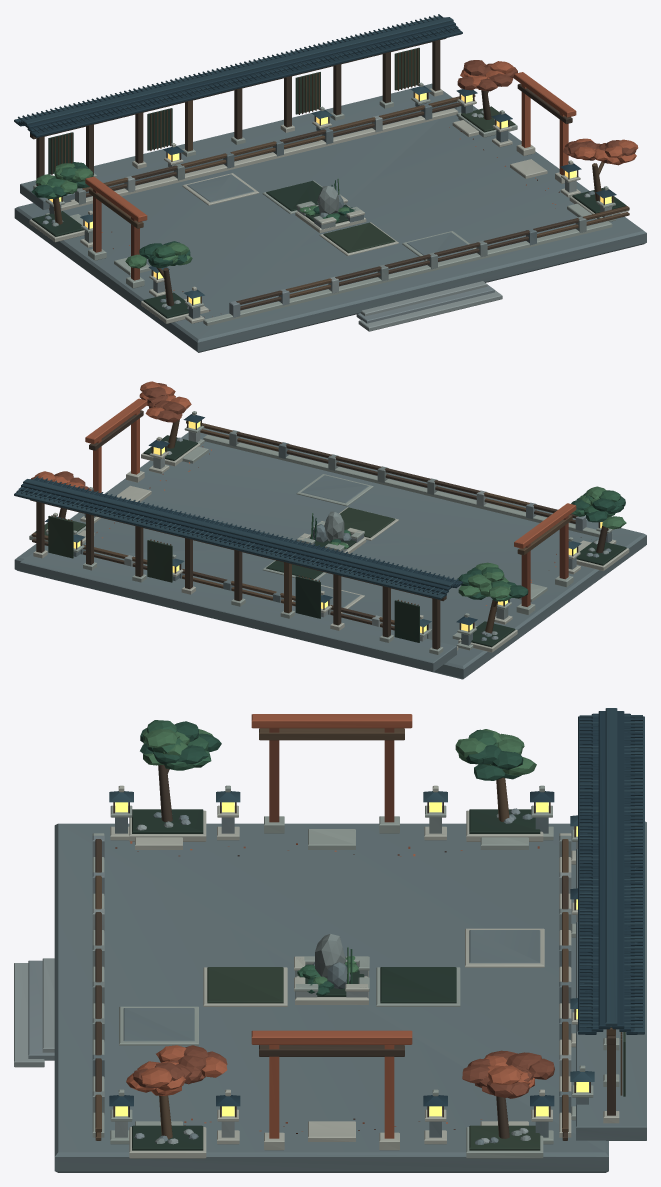
Rendered from training-garden-layout.glb.
The picture shows the model from 3 angles, top to bottom: view 1: azimuth 30°, elevation 25°; view 2: azimuth 150°, elevation 25°; view 3: azimuth 270°, elevation 25°; orthographic projection. The views are drawn at different scales.
Parts seen in each view (by area): view 1: garden-stone, garden-wood, garden-roof, garden-trim, garden-earth, garden-red, garden-foliage, garden-lamp, pillar-stone; view 2: garden-stone, garden-roof, garden-wood, garden-trim, garden-earth, garden-red, garden-foliage, pillar-stone, garden-lamp; view 3: garden-stone, garden-roof, garden-trim, garden-red, garden-earth, garden-wood, garden-foliage, pillar-stone, garden-lamp, cover-trim, pillar-foliage.
Part boxes in pixels (bbox=[...]): garden-stone: bbox=[14, 83, 646, 352]; garden-wood: bbox=[30, 38, 629, 310]; garden-roof: bbox=[14, 14, 616, 298]; garden-trim: bbox=[29, 82, 629, 325]; garden-earth: bbox=[32, 47, 626, 318]; garden-red: bbox=[85, 60, 638, 317]; garden-foliage: bbox=[31, 162, 192, 268]; garden-lamp: bbox=[49, 93, 611, 304]; pillar-stone: bbox=[317, 186, 349, 217]; garden-stone: bbox=[14, 428, 646, 679]; garden-roof: bbox=[14, 414, 611, 626]; garden-wood: bbox=[30, 410, 608, 649]; garden-trim: bbox=[29, 411, 629, 654]; garden-earth: bbox=[34, 435, 626, 647]; garden-red: bbox=[31, 381, 581, 606]; garden-foliage: bbox=[457, 486, 626, 601]; pillar-stone: bbox=[313, 511, 351, 542]; garden-lamp: bbox=[73, 421, 608, 632]; garden-stone: bbox=[14, 808, 646, 1172]; garden-roof: bbox=[109, 708, 644, 1106]; garden-trim: bbox=[92, 785, 619, 1158]; garden-red: bbox=[115, 714, 554, 1138]; garden-earth: bbox=[132, 809, 625, 1150]; garden-wood: bbox=[95, 728, 622, 1140]; garden-foliage: bbox=[140, 720, 536, 780]; pillar-stone: bbox=[313, 934, 350, 988]; garden-lamp: bbox=[115, 802, 588, 1116]; cover-trim: bbox=[294, 956, 369, 991]; pillar-foliage: bbox=[297, 947, 358, 995].
Bounding box in the file's own units: 30.07 × 5.87 × 21.97.
